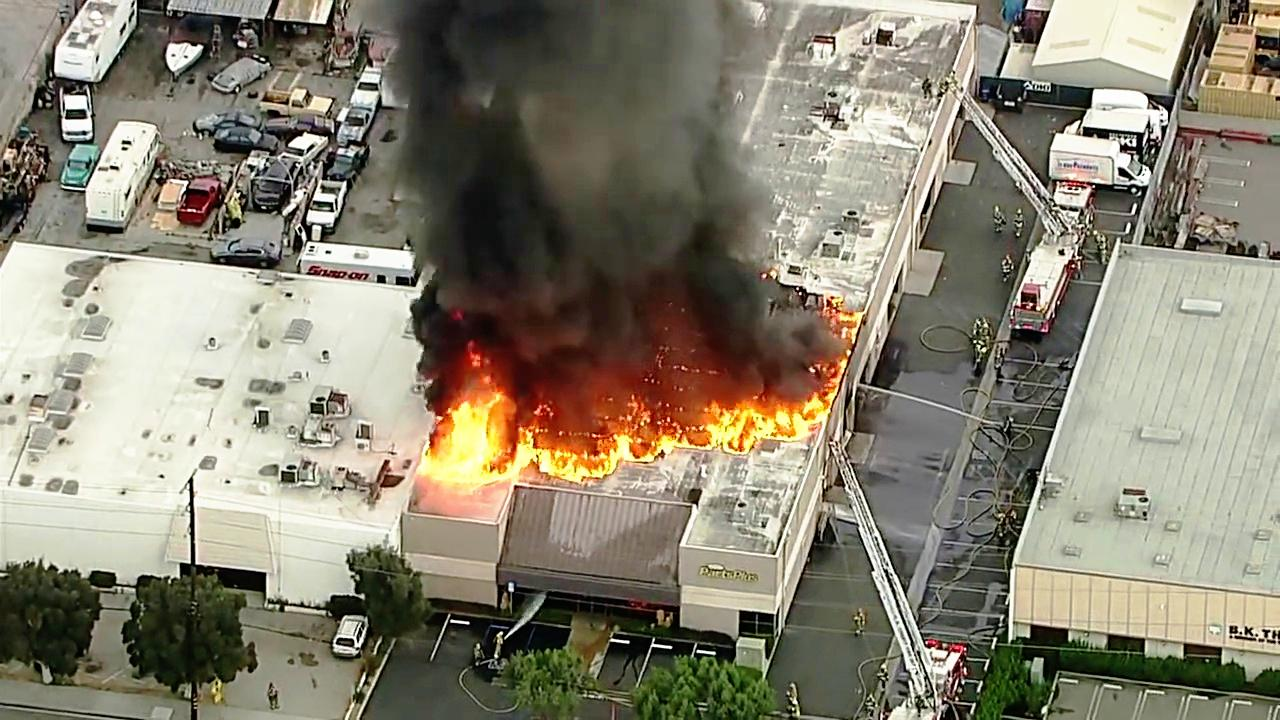fire: (432, 354, 506, 471), (705, 405, 797, 452)
smoke: (407, 0, 672, 297)
